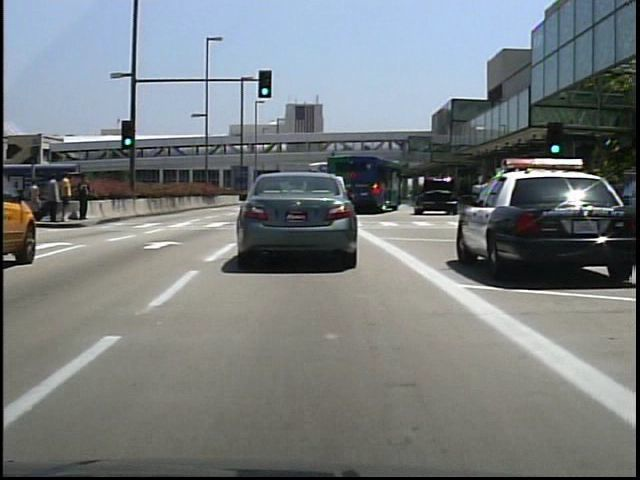person: (77, 172, 95, 224), (27, 177, 46, 225), (47, 173, 63, 223), (60, 170, 75, 223)
